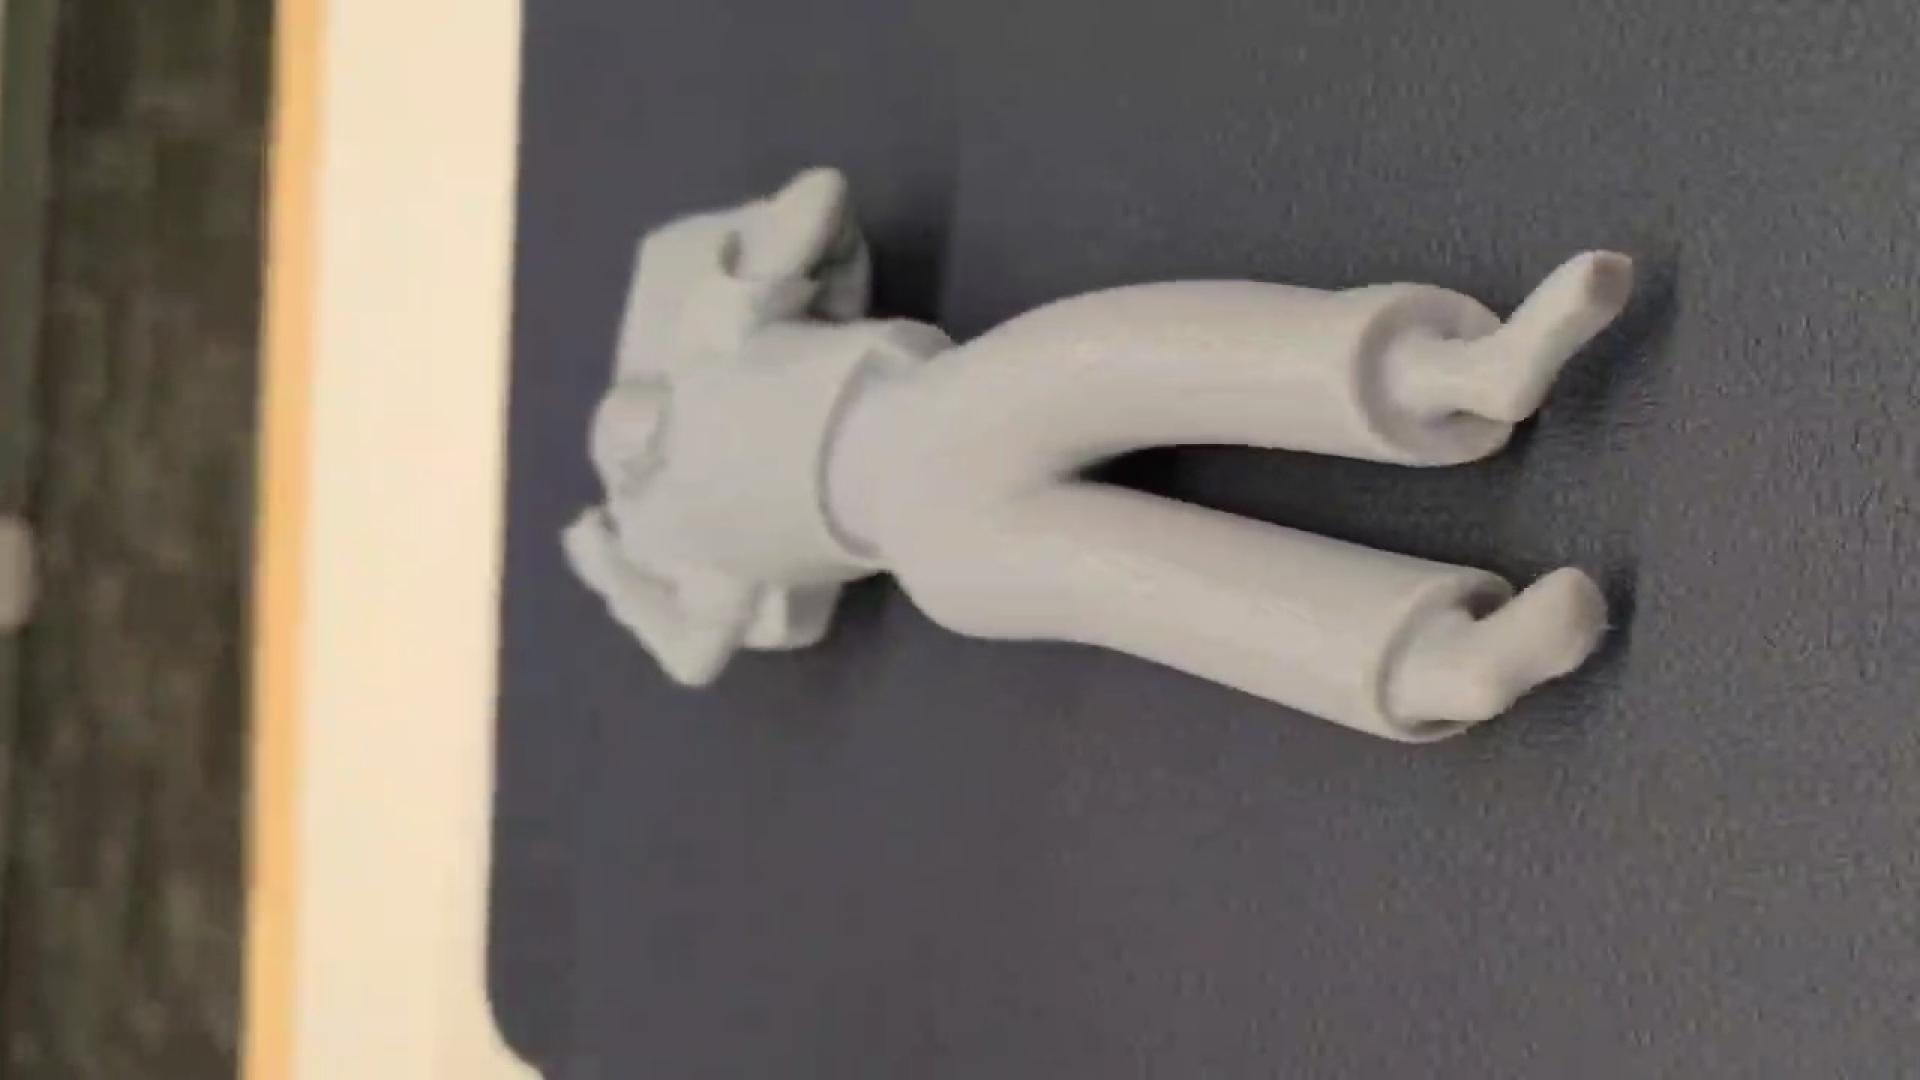Bad-style: (578, 162, 1646, 754)
